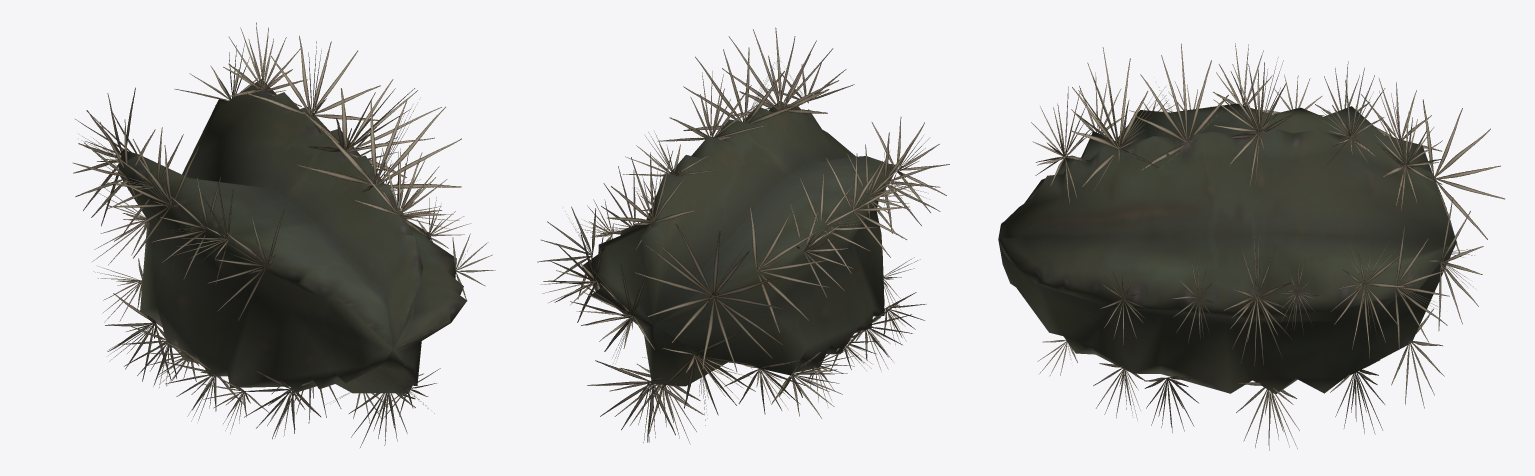
Rendered from DE_Cactus_Part_04.fbx.
3 renders of one model, left to right at view 1: azimuth 30°, elevation 25°; view 2: azimuth 150°, elevation 25°; view 3: azimuth 270°, elevation 25°, orthographic. The views are drawn at different scales.
Visible parts, largest first — view 1: DE_Cactus_Part_04, DE_Cactus_Needles_Part_04; view 2: DE_Cactus_Part_04, DE_Cactus_Needles_Part_04; view 3: DE_Cactus_Part_04, DE_Cactus_Needles_Part_04.
Part boxes in pixels (x1=…): DE_Cactus_Part_04: x1=118, y1=79, x2=467, y2=393; DE_Cactus_Needles_Part_04: x1=73, y1=22, x2=495, y2=447; DE_Cactus_Part_04: x1=582, y1=101, x2=896, y2=386; DE_Cactus_Needles_Part_04: x1=537, y1=27, x2=949, y2=444; DE_Cactus_Part_04: x1=998, y1=103, x2=1456, y2=393; DE_Cactus_Needles_Part_04: x1=1031, y1=43, x2=1504, y2=450.
Bounding box in the file's own units: 0.6186 × 0.6544 × 0.74.
